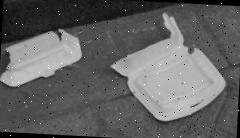general: (107, 10, 229, 126), (0, 25, 83, 90)
